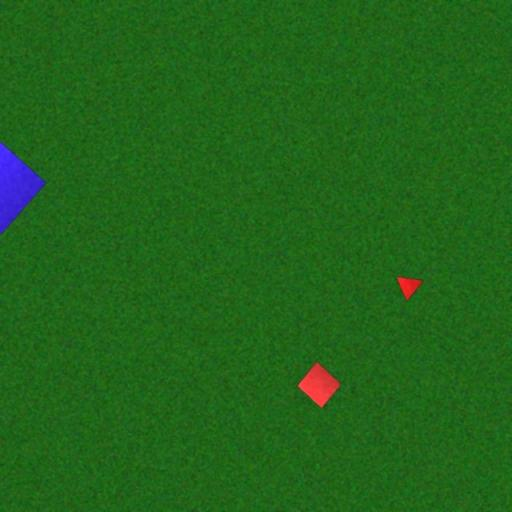BLUE_SQUARE: (0, 137, 47, 236)
RED_SQUARE: (296, 360, 342, 410)
